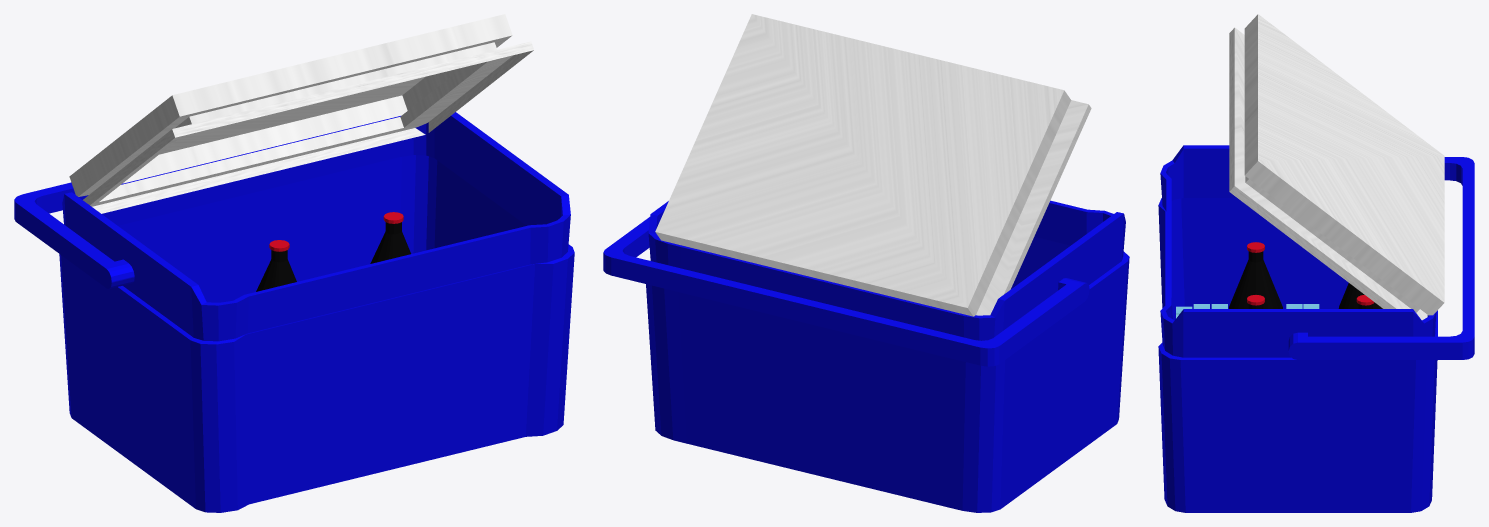
Rendered from Nevera.fbx.
3 views of the same model, side by side, from view 1: azimuth 30°, elevation 25°; view 2: azimuth 150°, elevation 25°; view 3: azimuth 270°, elevation 25° (orthographic). The views are drawn at different scales.
Visible parts, largest first — view 1: Nevera.002; view 2: Nevera.002; view 3: Nevera.002.
Part boxes in pixels (x1,y1,x2,y2): Nevera.002: [14, 14, 574, 512]; Nevera.002: [603, 14, 1129, 512]; Nevera.002: [1158, 14, 1474, 512].
Size of the model in its own units: 574 by 497 by 413.
6 materials, 6 textured.
